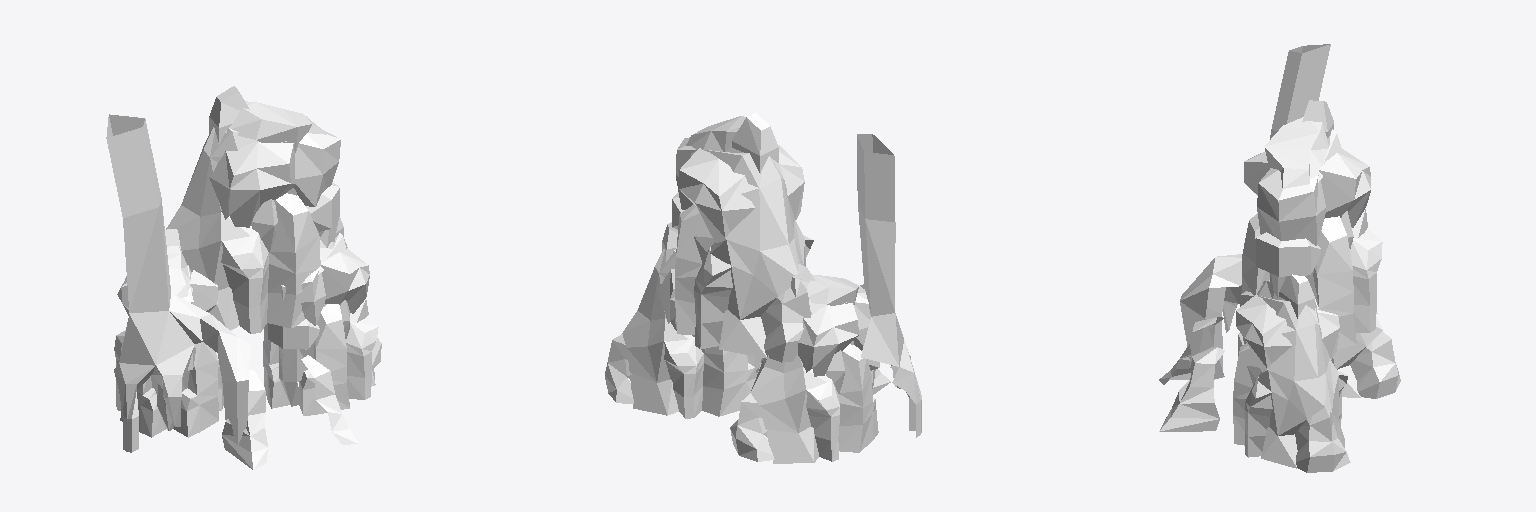
File: templeSurroundings_prefab.obj
3 views of the same model, side by side, from view 1: azimuth 30°, elevation 25°; view 2: azimuth 150°, elevation 25°; view 3: azimuth 270°, elevation 25° (orthographic).
Parts seen in each view (by area): view 1: Object12-Pivot; view 2: Object12-Pivot; view 3: Object12-Pivot.
Part boxes in pixels (x1,y1,x2,y2): Object12-Pivot: (106,86,381,469); Object12-Pivot: (605,113,921,463); Object12-Pivot: (1159,44,1400,472).
Size of the model in its own units: 143 by 150 by 106.